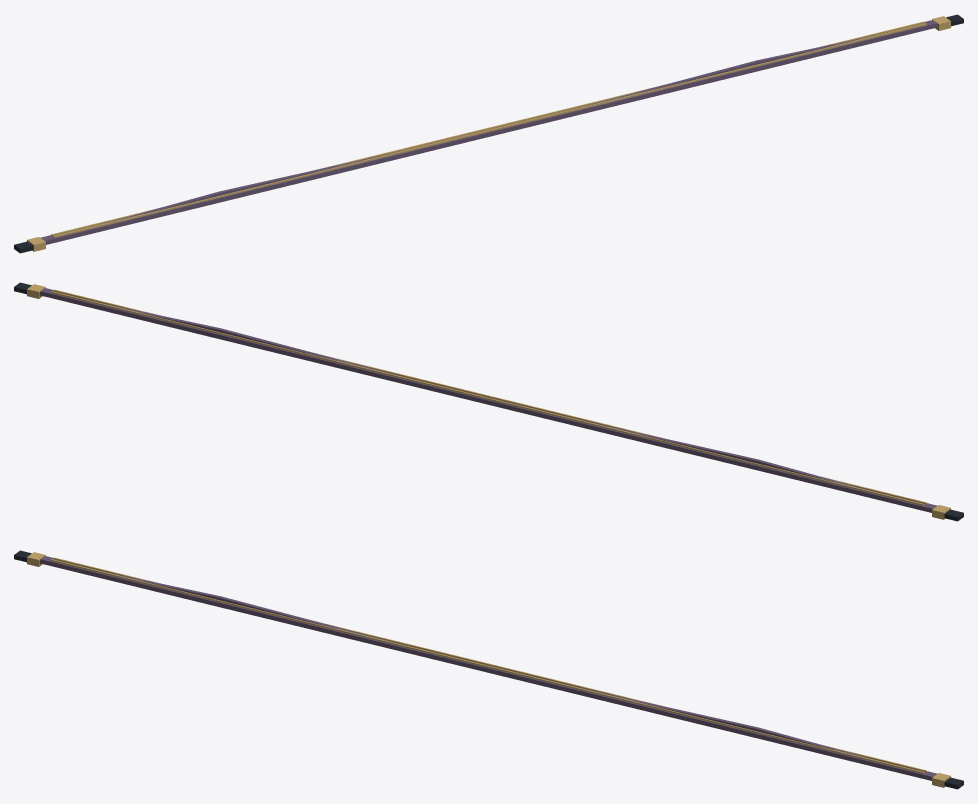
3 views of the same model, one above another, from view 1: azimuth 30°, elevation 25°; view 2: azimuth 150°, elevation 25°; view 3: azimuth 330°, elevation 25° (orthographic).
Visible parts, largest first — view 1: flat-ribbon-main, flat-ribbon-stripe-front, flat-ribbon-stripe-back, flat-ribbon-bow-C, flat-ribbon-bow-B; view 2: flat-ribbon-main, flat-ribbon-stripe-back, flat-ribbon-stripe-front, flat-ribbon-bow-C, flat-ribbon-bow-B; view 3: flat-ribbon-main, flat-ribbon-stripe-front, flat-ribbon-stripe-back, flat-ribbon-bow-B, flat-ribbon-bow-C.
Boxes of the visible parts, box(x1,y1,x2,y2) form: flat-ribbon-main: box(40, 20, 937, 244); flat-ribbon-stripe-front: box(53, 23, 926, 237); flat-ribbon-stripe-back: box(51, 21, 924, 236); flat-ribbon-bow-C: box(574, 60, 758, 108); flat-ribbon-bow-B: box(220, 150, 402, 195); flat-ribbon-main: box(40, 288, 937, 512); flat-ribbon-stripe-back: box(51, 291, 924, 505); flat-ribbon-stripe-front: box(53, 289, 926, 504); flat-ribbon-bow-C: box(219, 328, 403, 376); flat-ribbon-bow-B: box(575, 418, 757, 463); flat-ribbon-main: box(40, 556, 937, 780); flat-ribbon-stripe-front: box(51, 559, 924, 773); flat-ribbon-stripe-back: box(53, 557, 926, 772); flat-ribbon-bow-B: box(219, 596, 403, 644); flat-ribbon-bow-C: box(575, 686, 757, 731).
Size of the model in its own units: 1.41 by 0.0155 by 0.018.
